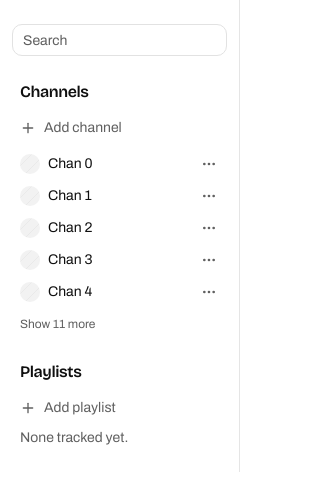
Sidebar › says when nothing matches the search
Type "zzz" into the search field named "Search channels and playlists".
click(120, 40); type("zzz")  # box [12,24,227,56]
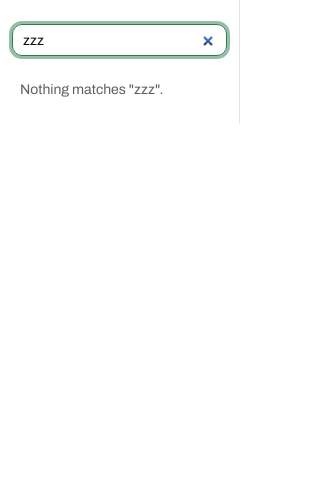
Now the text "Nothing matches \"zzz\"." is shown, box [20,82,163,97]
